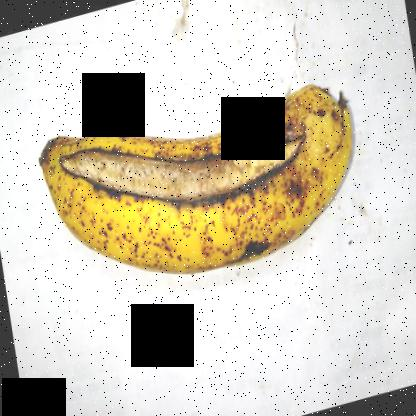ripe: (21, 66, 374, 279)
rotten: (50, 124, 305, 214)
